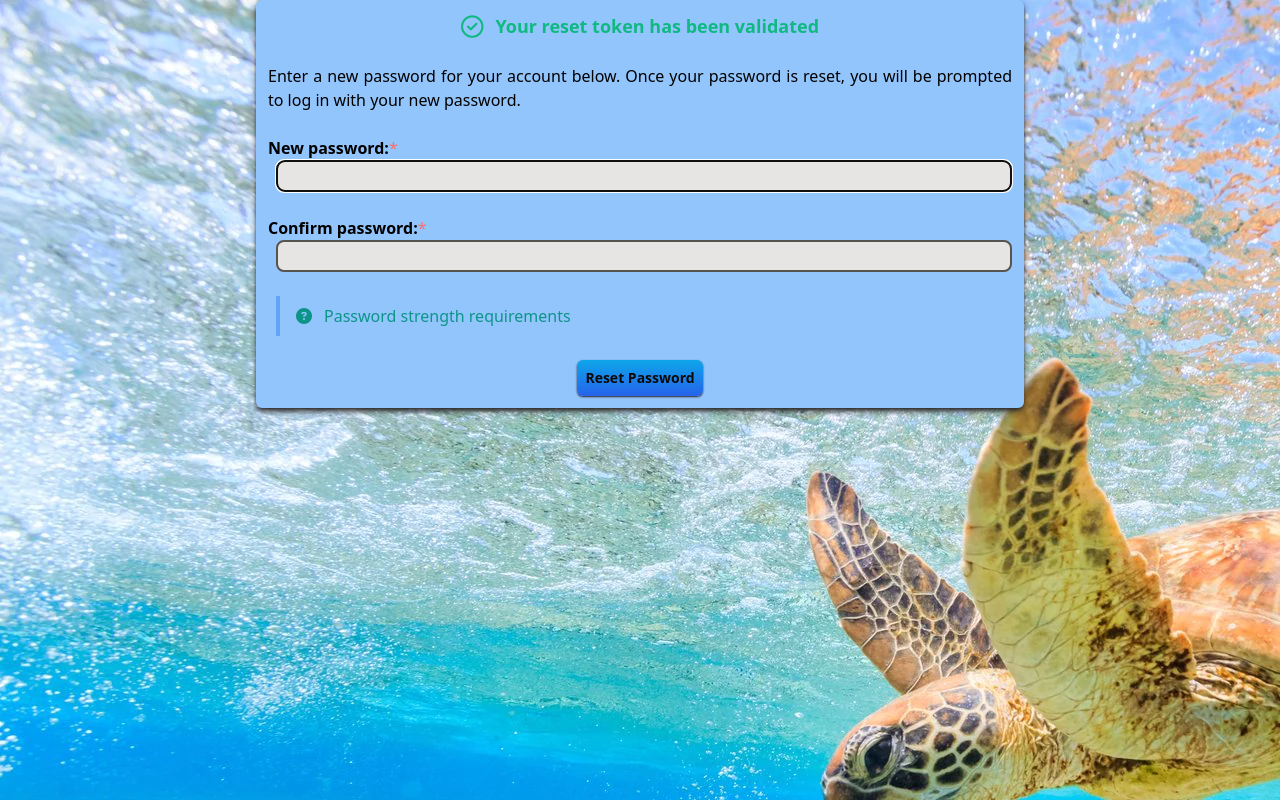
Scenario: ResetPassword component › will validate that the passwords match
Type "__Strong1!" into the password field with test id "password" at (644, 176), box [276,160,1012,192]
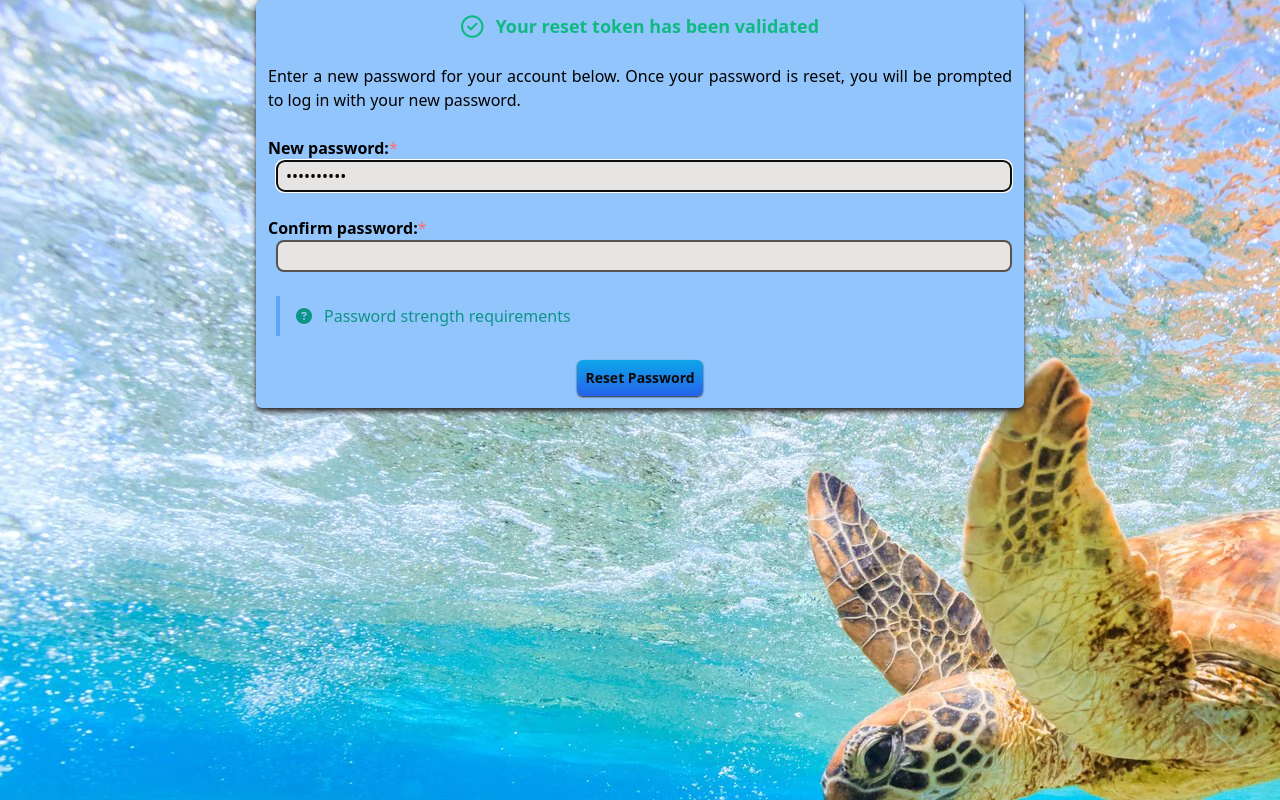
Type "__Strong2!" into the password field with test id "confirm-password" at (644, 256), box [276,240,1012,272]
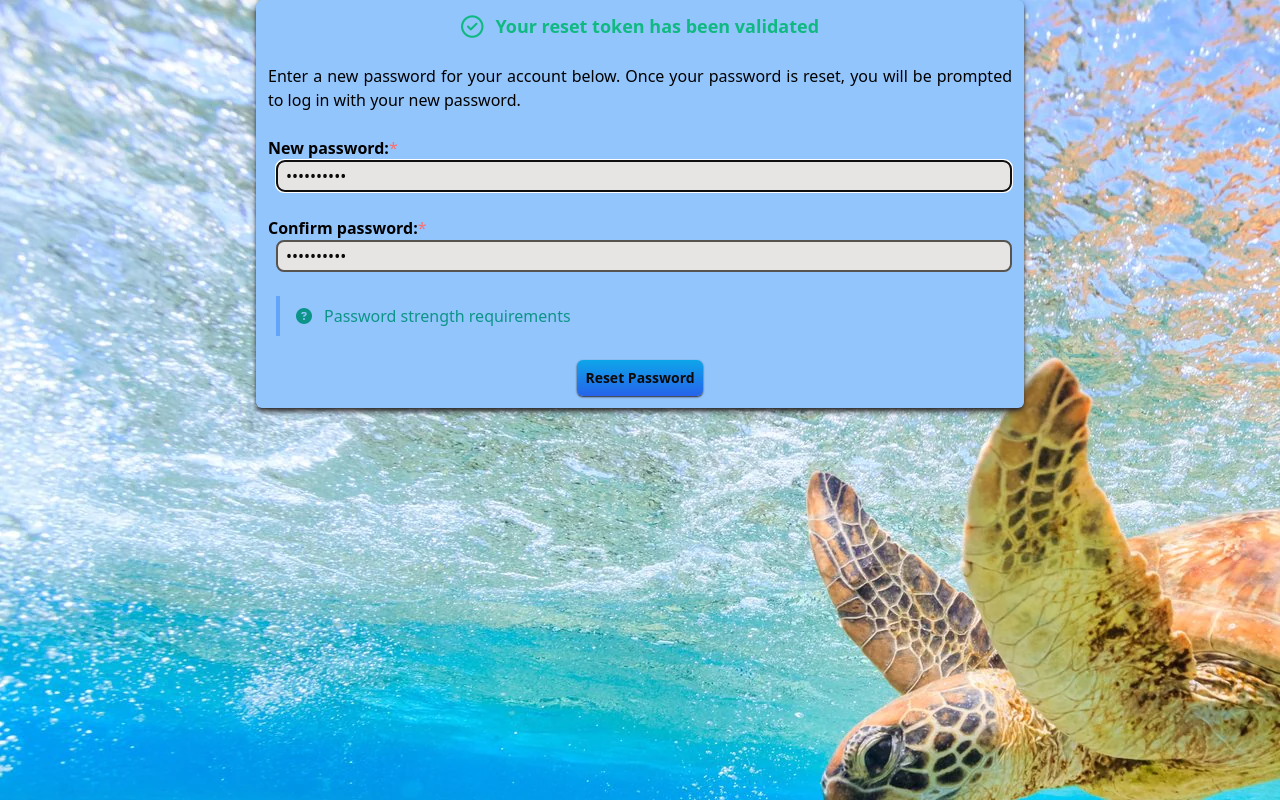
Click the submit button at (640, 378), box [577,360,703,396]
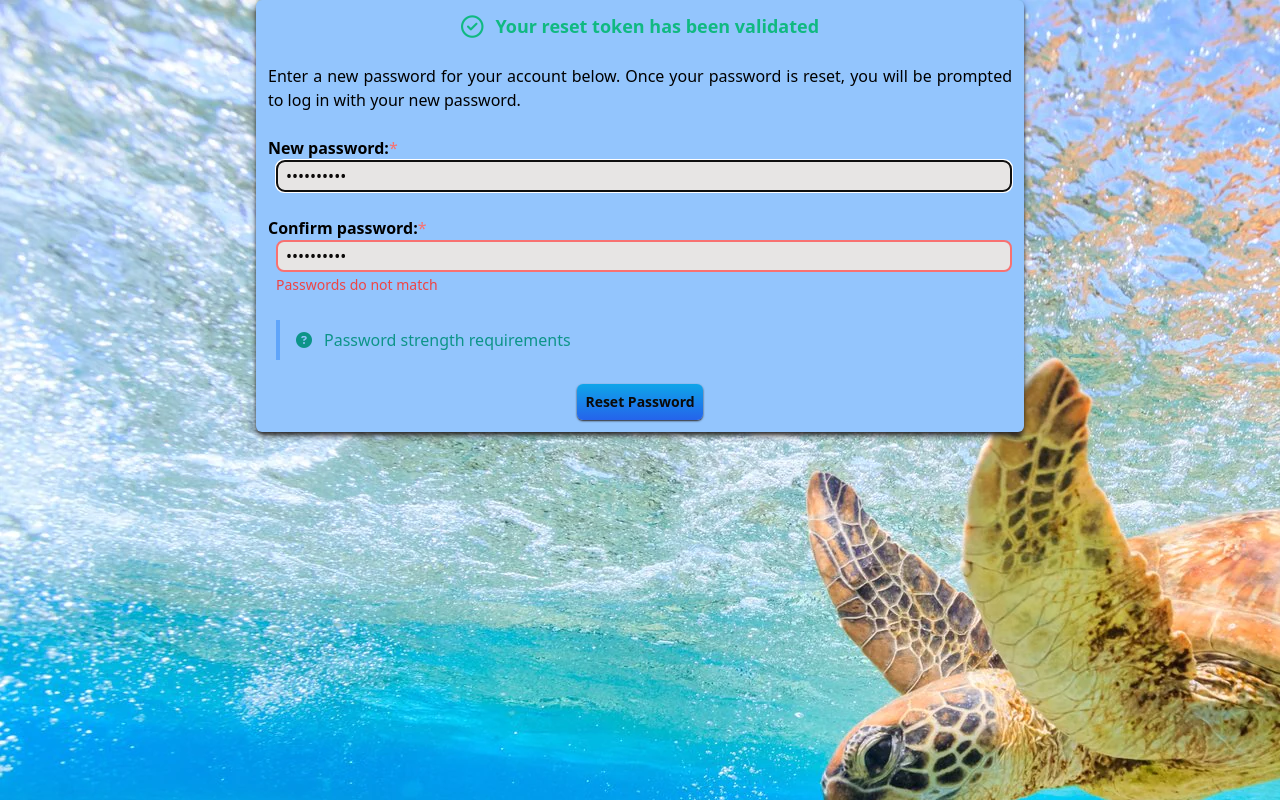
Expected: the text with test id "confirmPassword-error" reads "Passwords do not match", [276,275,438,294]
